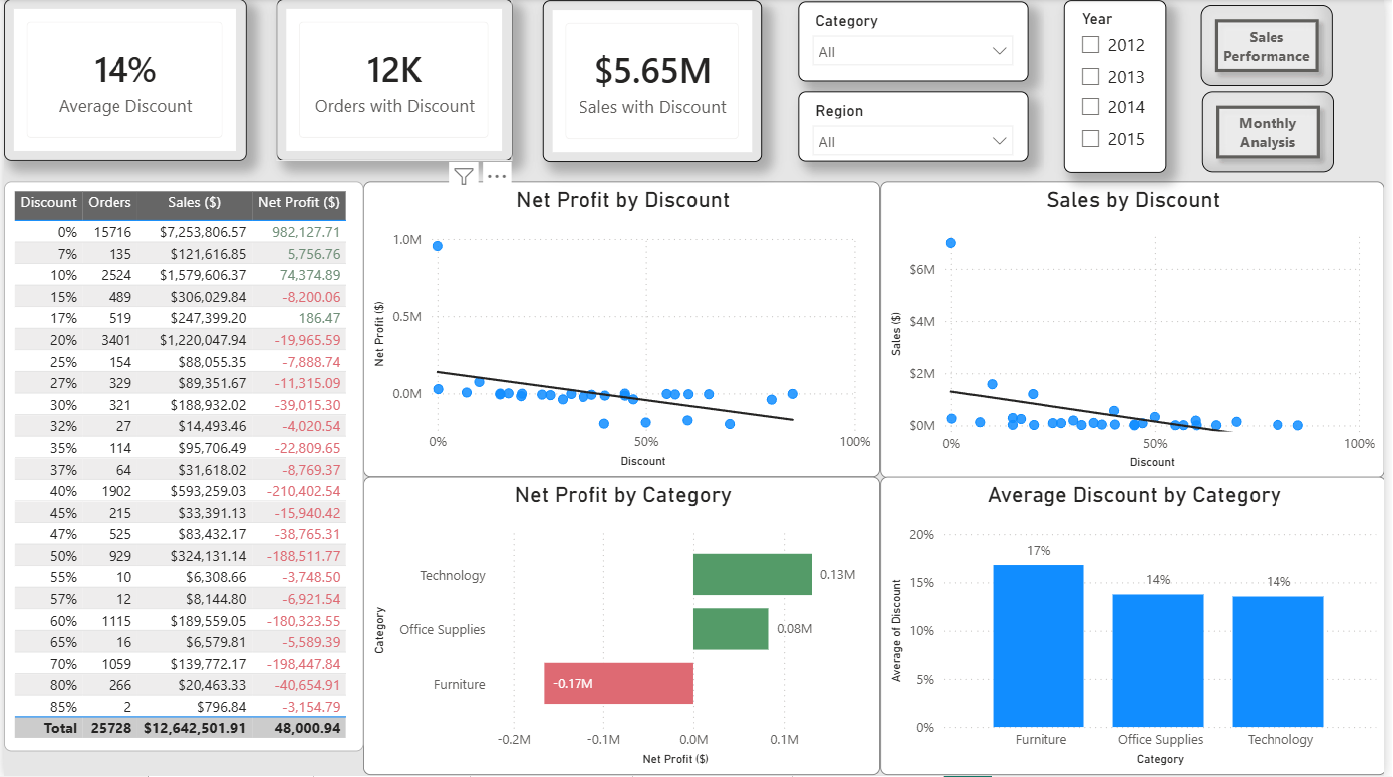

What the dashboard file says about the page in this screenshot:
{"tool":"powerbi","page":{"name":"Discount Analysis","canvas":[1280,720],"ordinal":2},"visuals":[{"type":"scatterChart","title":"Net Profit by Discount","fields":{"X":["Orders.Discount"],"Y":["_Measures.Profit after Shipping and Returns"]},"box":[333.8,168.8,479.3,274.1],"z":0},{"type":"scatterChart","title":"Sales by Discount","fields":{"X":["Orders.Discount"],"Y":["Sum(Orders.Sales)"]},"box":[813.1,168.8,467.6,275.4],"z":1000},{"type":"clusteredBarChart","title":"Net Profit by Category","fields":{"Category":["Products.Category"],"Y":["_Measures.Profit after Shipping and Returns"]},"box":[333.8,442.9,479.3,276.7],"z":2000},{"type":"clusteredColumnChart","title":"Average Discount by Category","fields":{"Category":["Products.Category"],"Y":["Avg(Orders.Discount)"]},"box":[813.1,442.9,468.9,276.7],"z":3000},{"type":"cardVisual","fields":{"Data":["Avg(Orders.Discount)"]},"box":[0,0,224.9,150.3],"z":4000},{"type":"cardVisual","fields":{"Data":["_Measures.Orders with Discount"]},"box":[252.1,0,219,150.3],"z":5000},{"type":"cardVisual","fields":{"Data":["_Measures.Sales with Discount"]},"box":[499.5,1.2,203.6,150.3],"z":6000},{"type":"slicer","fields":{"Values":["DimDate.Year"]},"box":[983.5,1.2,94.7,159.8],"z":7000},{"type":"slicer","fields":{"Values":["Products.Category"]},"box":[736.2,2.4,213,74.6],"z":8000},{"type":"slicer","fields":{"Values":["Address.Region"]},"box":[736.2,85.2,213,65.1],"z":9000},{"type":"actionButton","box":[1110.2,5.9,122.3,75.1],"z":10000},{"type":"actionButton","box":[1111.3,85.2,122.3,75.1],"z":11000},{"type":"tableEx","fields":{"Values":["Orders.Discount Rounded","Orders.Order ID","Sum(Orders.Sales)","_Measures.Profit after Shipping and Returns"]},"box":[0,168.8,333.8,528.6],"z":12000}]}

Visuals, with their boxes in screenshot pixels (x1, y1, x2, y2), scaled from the page's 1280x720 canvas onto the 1393x777 screenshot:
"Net Profit by Discount" scatterChart: pyautogui.locateOnScreen(363, 182, 885, 478)
"Sales by Discount" scatterChart: pyautogui.locateOnScreen(885, 182, 1392, 479)
"Net Profit by Category" clusteredBarChart: pyautogui.locateOnScreen(363, 478, 885, 776)
"Average Discount by Category" clusteredColumnChart: pyautogui.locateOnScreen(885, 478, 1392, 776)
cardVisual - Avg(Orders.Discount): pyautogui.locateOnScreen(0, 0, 245, 162)
cardVisual - _Measures.Orders with Discount: pyautogui.locateOnScreen(274, 0, 513, 162)
cardVisual - _Measures.Sales with Discount: pyautogui.locateOnScreen(544, 1, 765, 163)
slicer - DimDate.Year: pyautogui.locateOnScreen(1070, 1, 1173, 174)
slicer - Products.Category: pyautogui.locateOnScreen(801, 3, 1033, 83)
slicer - Address.Region: pyautogui.locateOnScreen(801, 92, 1033, 162)
actionButton: pyautogui.locateOnScreen(1208, 6, 1341, 87)
actionButton: pyautogui.locateOnScreen(1209, 92, 1343, 173)
tableEx - Orders.Discount Rounded x Orders.Order ID: pyautogui.locateOnScreen(0, 182, 363, 753)
